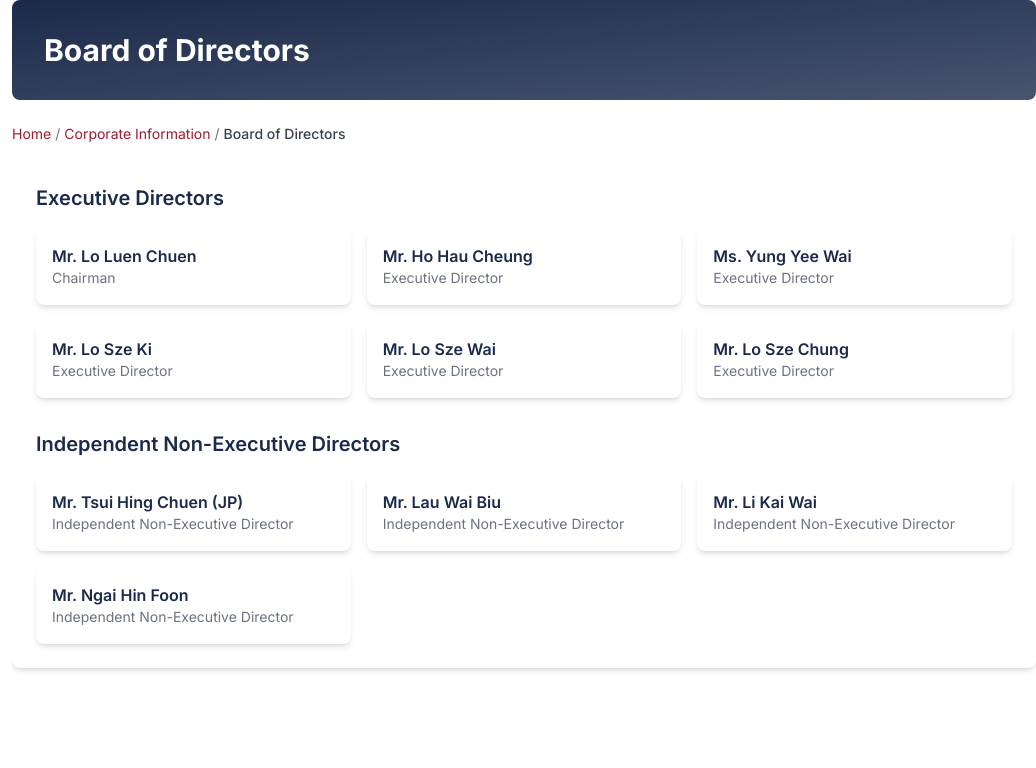
it: Board of Directors page template › expands a director bio on click
expect the text "extensive experience in corporate management" is not shown: met
Step 1. Click the button "Mr. Lo Luen Chuen Chairman" → (193, 266), box [52,244,335,288]
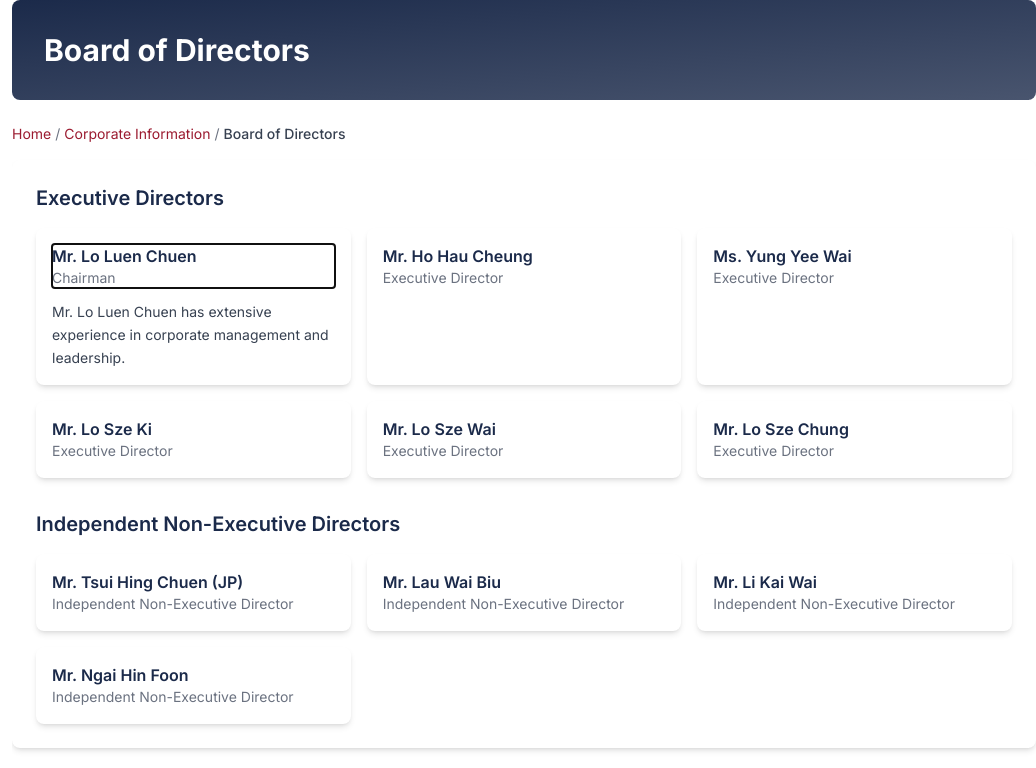
expect the text "extensive experience in corporate management" is shown: met, box [52,303,329,366]
